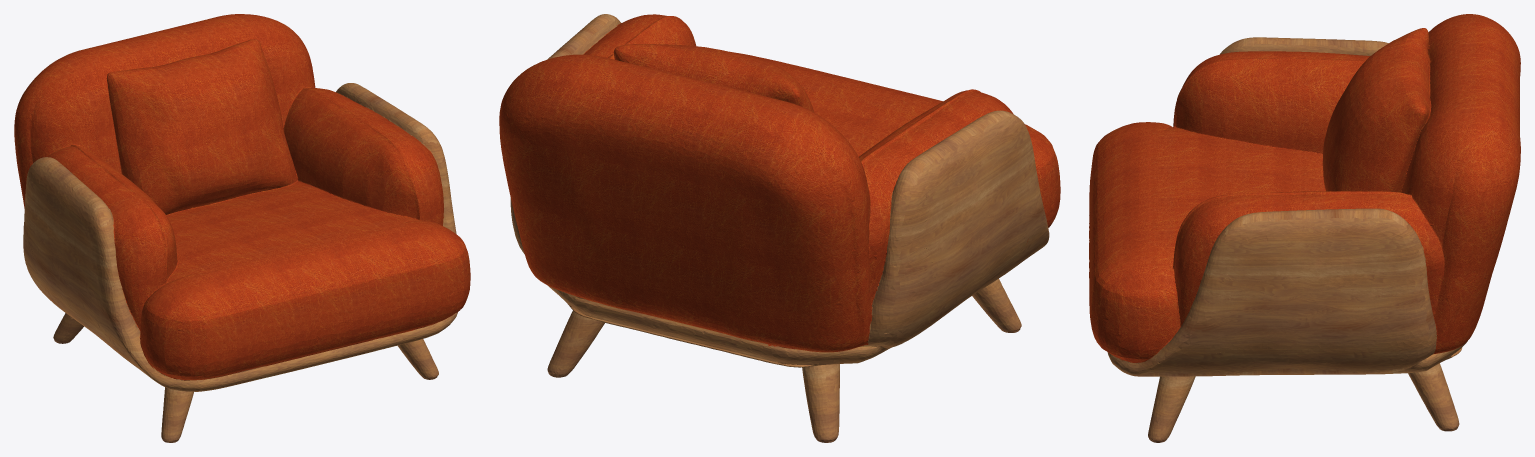
The model's file is WoodFabric1Seater.glb.
3 views of the same model, side by side, from view 1: azimuth 30°, elevation 25°; view 2: azimuth 150°, elevation 25°; view 3: azimuth 270°, elevation 25° (orthographic). The views are drawn at different scales.
Parts seen in each view (by area): view 1: world.001; view 2: world.001; view 3: world.001.
Boxes of the visible parts, x1,y1,x2,y2 form: world.001: (14,14,470,442); world.001: (499,14,1060,442); world.001: (1089,14,1520,442).
Size of the model in its own units: 1 by 0.7455 by 0.9554.
Materials: 2 (2 with a texture image).
